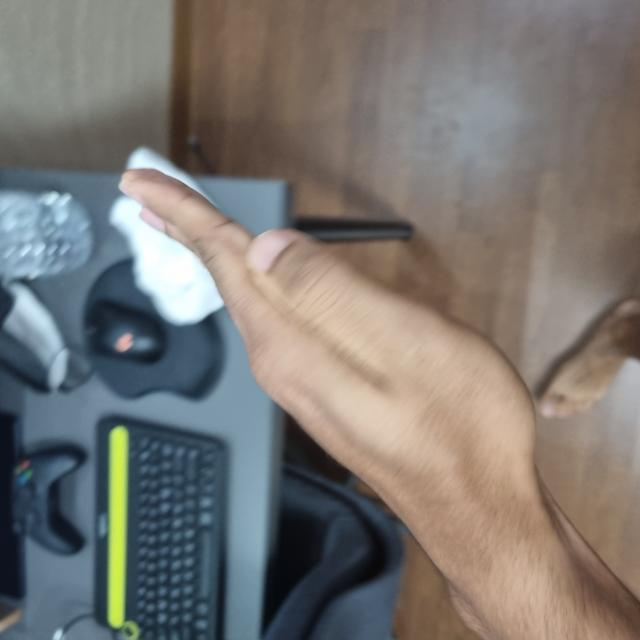Paper: (70, 124, 475, 536)
